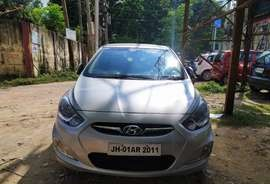JH01AR2011: (108, 143, 161, 155)
